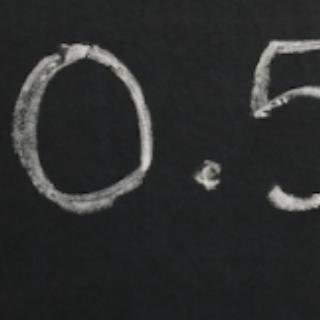.: (190, 155, 225, 196)
0: (9, 37, 156, 218)
5: (247, 34, 320, 220)
